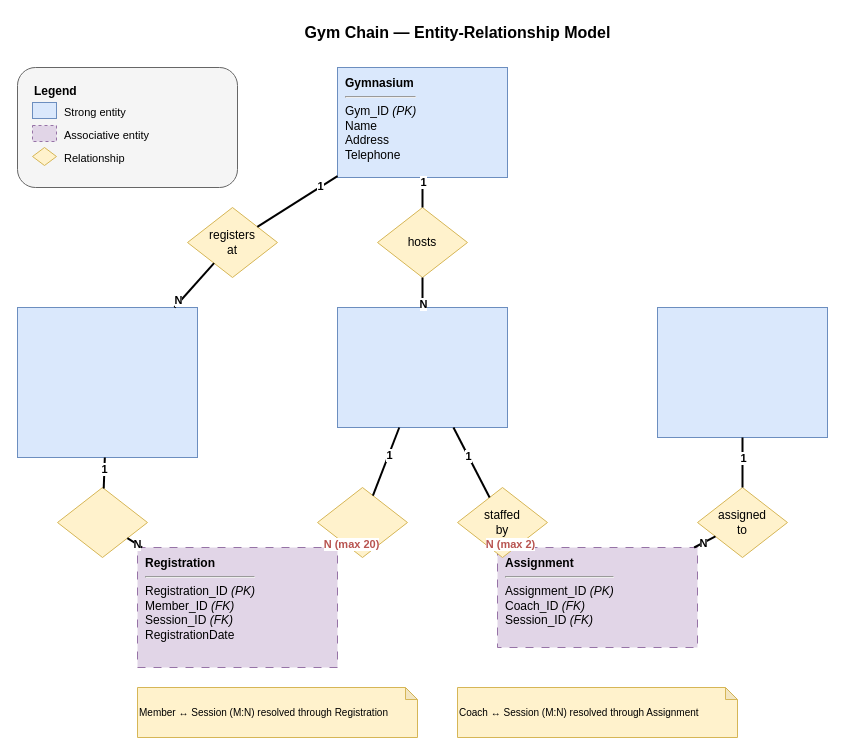
Image size: 845x755. Some labels were removed from this diagram. Each missing label, with the centre of its shape:
"Coach Coach_ID (PK) LastName FirstName Age Specialty" goes at pixel 742 372.
"enrolls in" goes at pixel 102 522.
"includes" goes at pixel 362 522.
"Member Member_ID (PK) LastName FirstName Address DateOfBirth Gender Gym_ID (FK)" goes at pixel 107 382.
"Session Session_ID (PK) SportType Schedule Gym_ID (FK)" goes at pixel 422 367.
